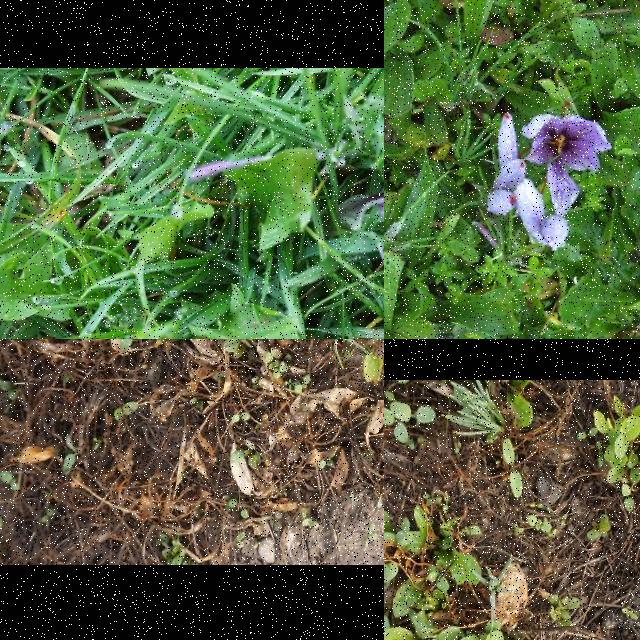flower: (523, 115, 613, 217)
overlap: (486, 114, 570, 252)
